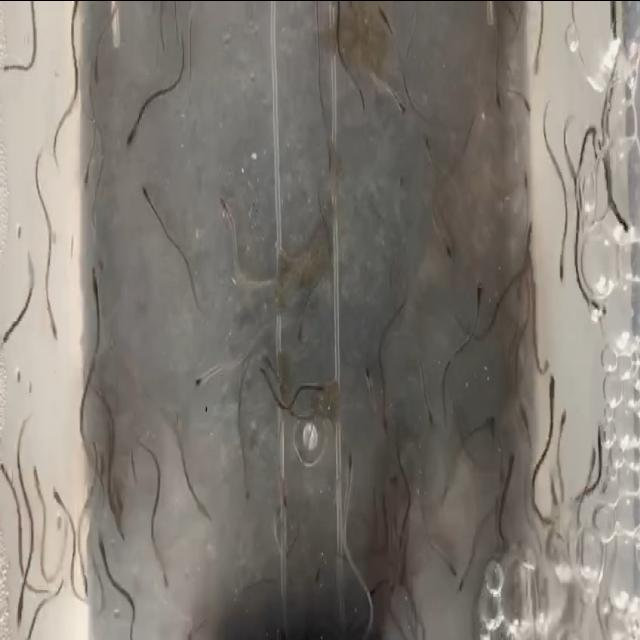active_glass_eel: (512, 79, 536, 119), (264, 508, 282, 556), (52, 470, 70, 512), (86, 200, 104, 241), (464, 274, 484, 310), (545, 374, 563, 414), (0, 444, 14, 494), (26, 239, 50, 268), (592, 422, 607, 468), (592, 284, 610, 322), (196, 494, 213, 534), (80, 146, 96, 188), (619, 203, 637, 240), (372, 0, 392, 33), (554, 398, 568, 444), (88, 44, 102, 90), (388, 86, 408, 118), (536, 346, 552, 386), (218, 187, 233, 229), (341, 444, 354, 492), (488, 74, 502, 118), (159, 560, 175, 598), (238, 470, 250, 520), (522, 159, 534, 209), (554, 194, 568, 234), (281, 480, 295, 518), (312, 558, 324, 602), (14, 590, 27, 630), (444, 224, 456, 265), (118, 516, 130, 556), (363, 359, 375, 399), (522, 428, 536, 462), (78, 574, 90, 613), (87, 252, 99, 290), (378, 403, 390, 441), (138, 178, 154, 206), (514, 132, 528, 164), (95, 523, 108, 556), (314, 368, 328, 398), (528, 222, 540, 257), (533, 53, 545, 88), (192, 370, 208, 396), (49, 308, 61, 342), (294, 325, 308, 353), (31, 458, 41, 496), (120, 129, 139, 149), (446, 555, 459, 584), (424, 134, 436, 164), (1, 57, 14, 83), (483, 409, 497, 432), (454, 570, 468, 592), (290, 532, 298, 568), (422, 402, 434, 426), (390, 497, 403, 519), (386, 474, 398, 496)
